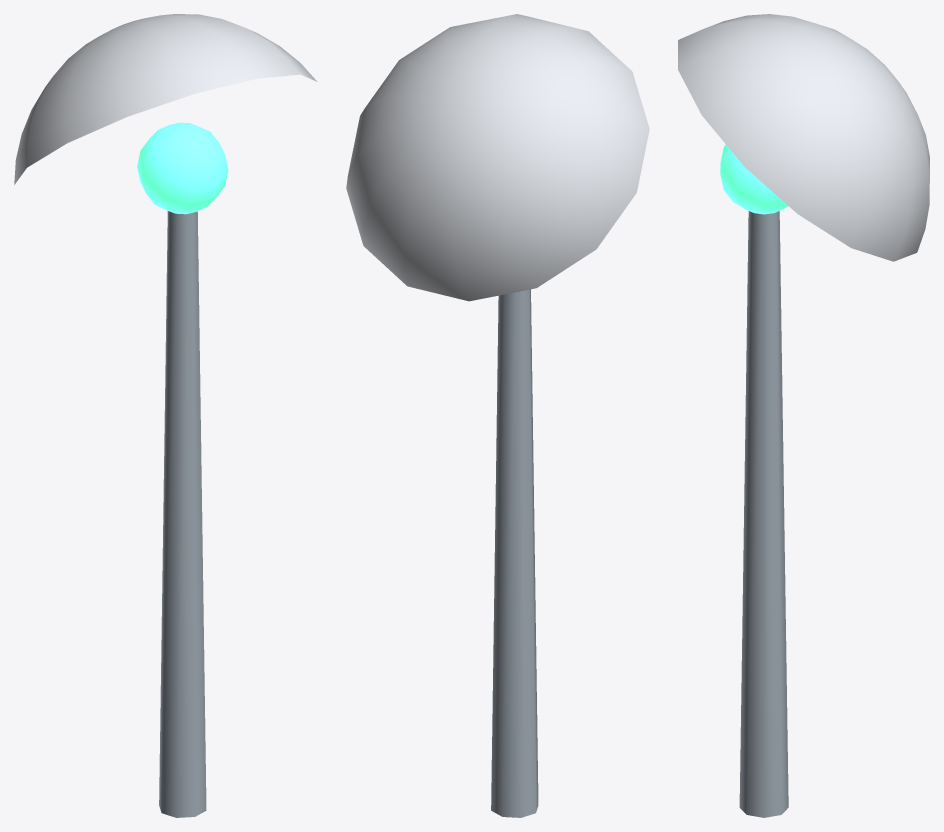
The model's file is sample-site.glb.
3 views of the same model, side by side, from view 1: azimuth 30°, elevation 25°; view 2: azimuth 150°, elevation 25°; view 3: azimuth 270°, elevation 25° (orthographic).
Parts seen in each view (by area): view 1: sample-site; view 2: sample-site; view 3: sample-site.
Boxes of the visible parts, x1,y1,x2,y2 form: sample-site: [14, 14, 317, 817]; sample-site: [346, 14, 649, 817]; sample-site: [678, 14, 929, 817].
Size of the model in its own units: 2.09 by 5.59 by 1.64.
